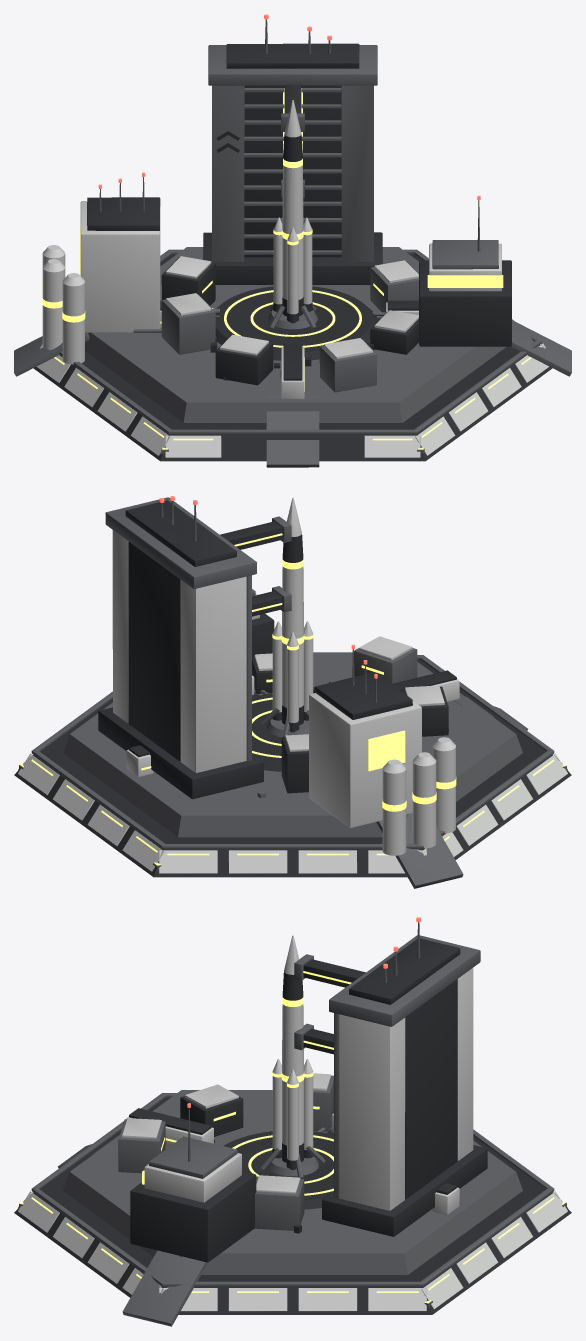
Rendered from sb_shipyard_t1.glb.
The picture shows the model from 3 angles, top to bottom: view 1: azimuth 30°, elevation 25°; view 2: azimuth 150°, elevation 25°; view 3: azimuth 270°, elevation 25°; orthographic projection. The views are drawn at different scales.
Parts seen in each view (by area): view 1: SM_LC_BODY, SM_LC_LIGHTS; view 2: SM_LC_BODY, SM_LC_LIGHTS; view 3: SM_LC_BODY, SM_LC_LIGHTS.
Boxes of the visible parts, x1,y1,x2,y2 form: SM_LC_BODY: (14,19,571,467); SM_LC_LIGHTS: (42,14,531,449); SM_LC_BODY: (14,497,571,888); SM_LC_LIGHTS: (20,496,565,865); SM_LC_BODY: (14,922,571,1326); SM_LC_LIGHTS: (20,917,565,1303).
Bounding box in the file's own units: 51.4 × 33.22 × 53.6.
